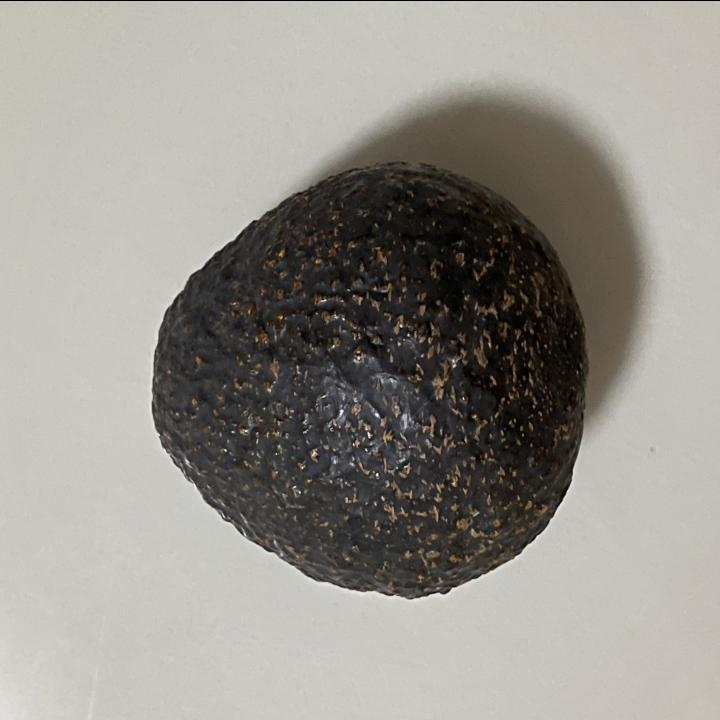Level3: (139, 152, 596, 608)
